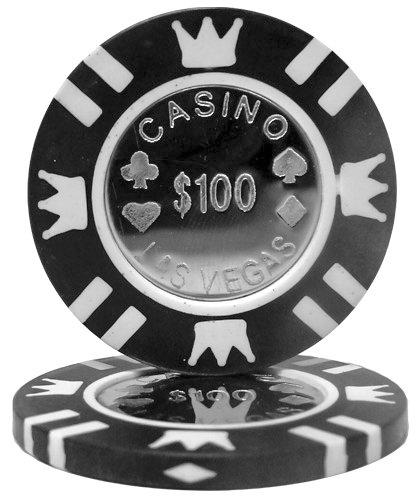chip-black: (29, 8, 396, 375), (15, 355, 407, 489)
